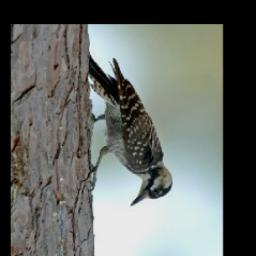Woodpecker: (79, 50, 175, 207)
